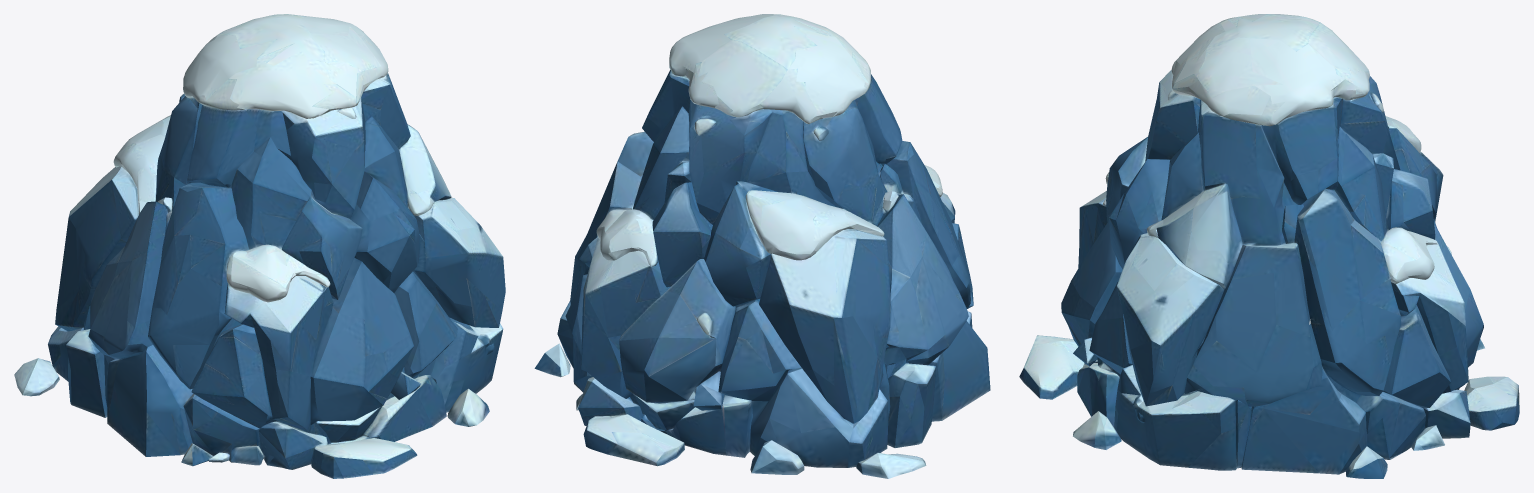
Rendered from cliff_boulder.glb.
3 renders of one model, left to right at view 1: azimuth 30°, elevation 25°; view 2: azimuth 150°, elevation 25°; view 3: azimuth 270°, elevation 25°, orthographic. The views are drawn at different scales.
Size of the model in its own units: 1.77 by 1.53 by 1.9.
1 material, 1 textured.
